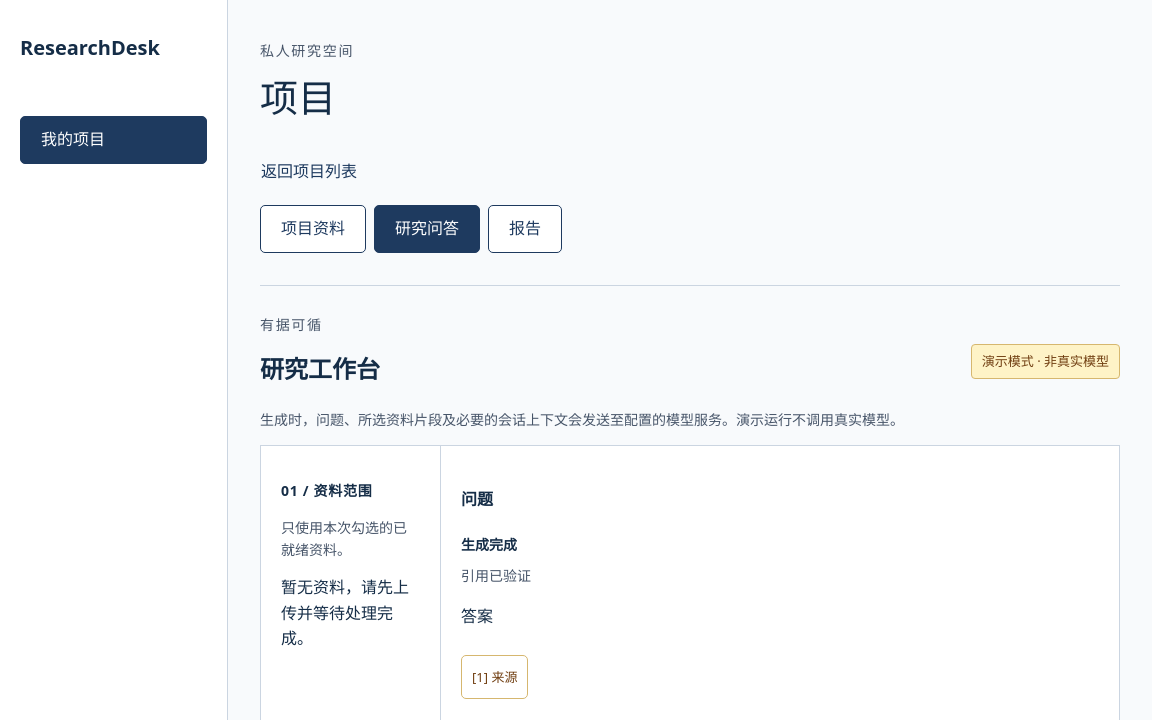
Test: opens authorized full source from research citations in the project shell
Click the button with aria-label "引用 1：来源": (495, 677) [461,655,528,699]
(page scrolled)
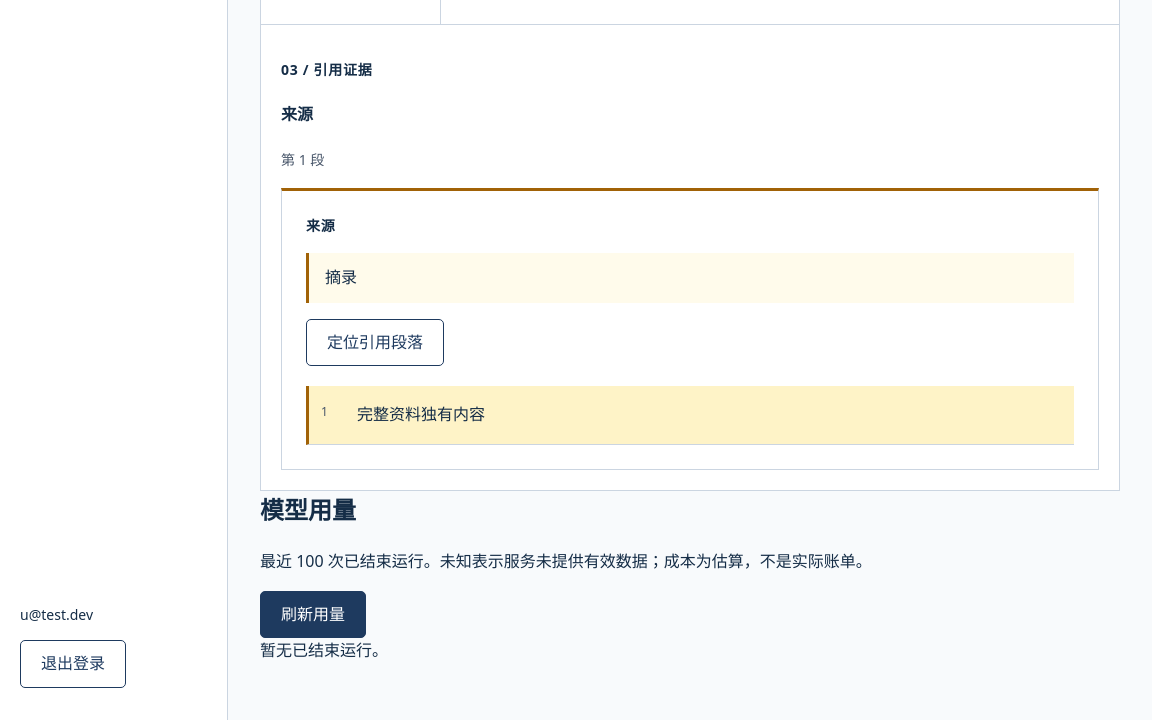
Check: the text "完整资料独有内容" is shown, box [357,403,485,425]
